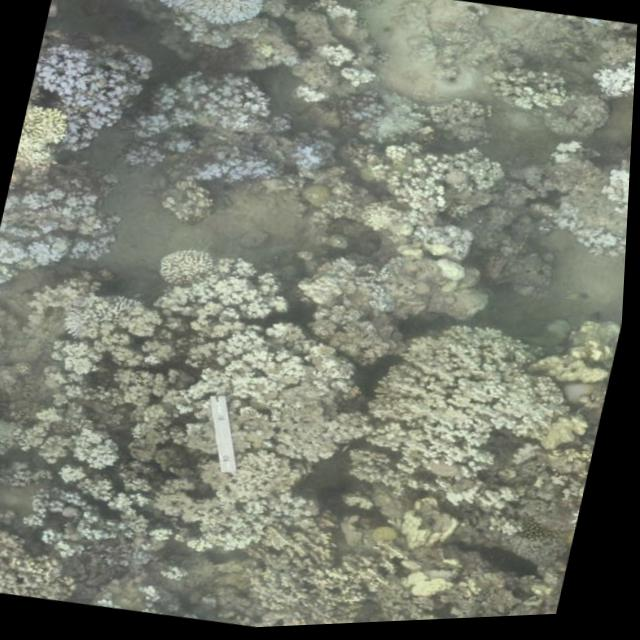Bleached Coral: (393, 317, 581, 487), (5, 466, 199, 588), (0, 159, 146, 307), (181, 312, 347, 431), (20, 32, 165, 162), (386, 145, 506, 271), (189, 120, 349, 213), (166, 238, 307, 334), (146, 59, 302, 143), (532, 159, 633, 273), (355, 79, 453, 159), (63, 271, 150, 347), (150, 0, 279, 47), (331, 30, 403, 96), (577, 45, 637, 117), (59, 423, 123, 487), (470, 603, 552, 623)
